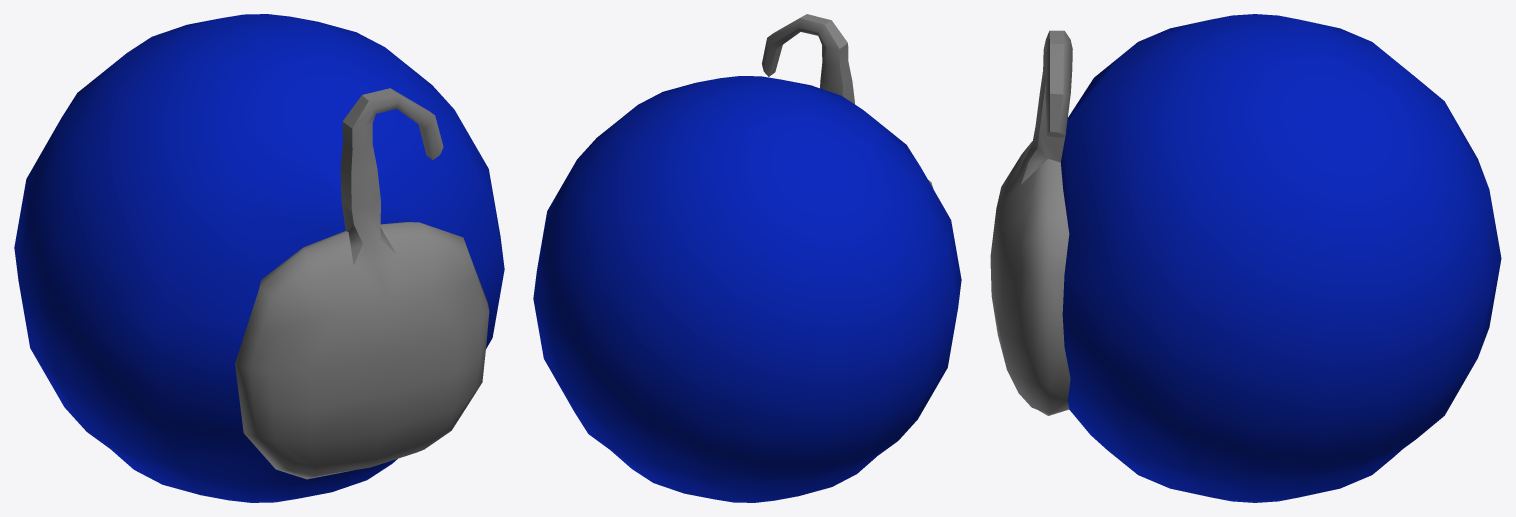
File: bomb.FBX
The picture shows the model from 3 angles, left to right: view 1: azimuth 30°, elevation 25°; view 2: azimuth 150°, elevation 25°; view 3: azimuth 270°, elevation 25°; orthographic projection. The views are drawn at different scales.
Visible parts, largest first — view 1: Object001, Sphere001; view 2: Object001, Sphere001; view 3: Object001, Sphere001.
Part boxes in pixels (bbox=[...]): Object001: bbox=[14, 14, 504, 502]; Sphere001: bbox=[235, 88, 489, 479]; Object001: bbox=[533, 76, 961, 502]; Sphere001: bbox=[762, 14, 933, 188]; Object001: bbox=[1060, 14, 1501, 502]; Sphere001: bbox=[990, 30, 1072, 415].
Size of the model in its own units: 67.02 by 68.28 by 69.52.
